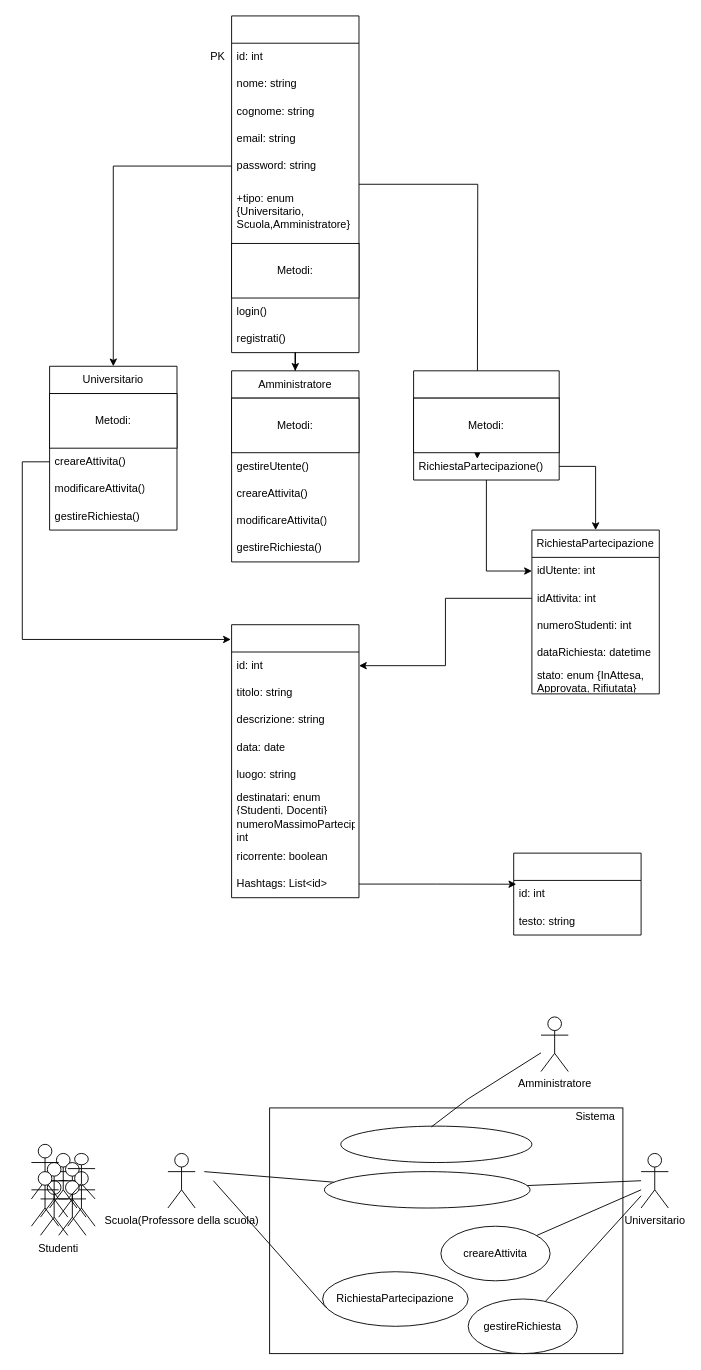
The diagram is 701 pixels wide and 1370 high, and some of its shapes have lost their labels. Each missing label, with the box of its shape:
Attivita: (231, 624, 359, 898)
gestireUtente: (340, 1125, 532, 1163)
Hashtag: (513, 852, 641, 935)
Resistrazione: (324, 1171, 530, 1208)
Scuola: (413, 370, 559, 480)
Utente: (231, 15, 359, 353)
